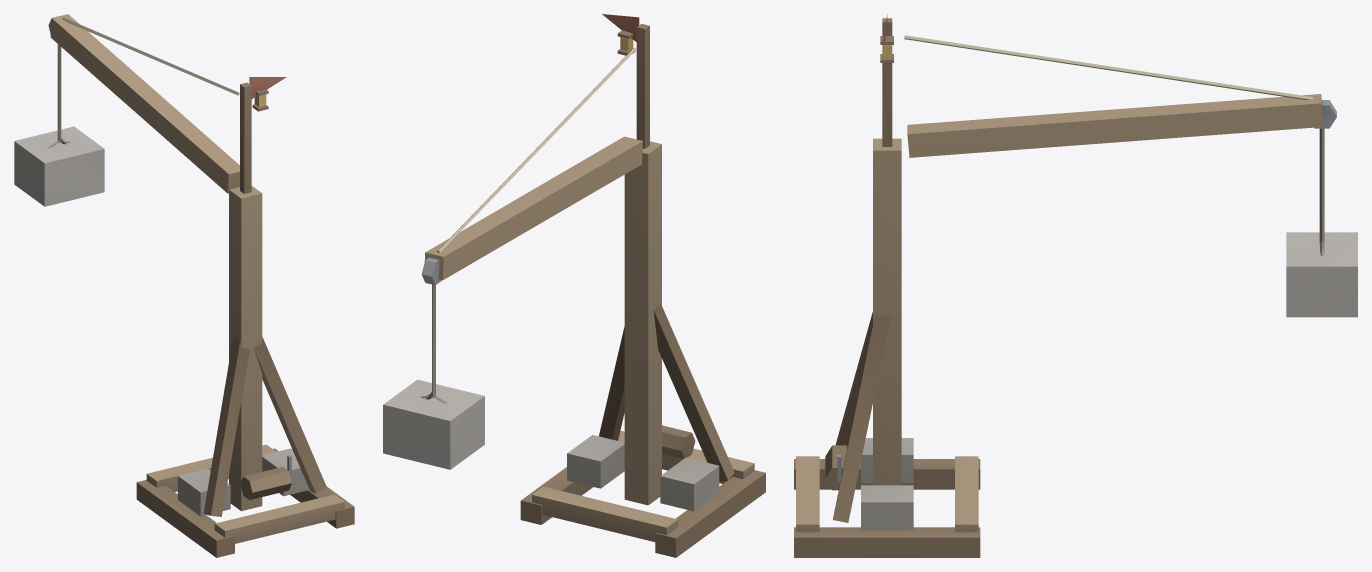
Rendered from crane_big_low.glb.
3 renders of one model, left to right at view 1: azimuth 30°, elevation 25°; view 2: azimuth 150°, elevation 25°; view 3: azimuth 270°, elevation 25°, orthographic. The views are drawn at different scales.
Parts seen in each view (by area): view 1: geometry_crane_big, geometry_boom; view 2: geometry_crane_big, geometry_boom; view 3: geometry_crane_big, geometry_boom.
Boxes of the visible parts, x1=… form: geometry_crane_big: x1=136, y1=77, x2=354, y2=557; geometry_boom: x1=14, y1=14, x2=239, y2=206; geometry_crane_big: x1=520, y1=14, x2=765, y2=557; geometry_boom: x1=383, y1=47, x2=642, y2=469; geometry_crane_big: x1=794, y1=15, x2=980, y2=557; geometry_boom: x1=904, y1=35, x2=1357, y2=317.
Size of the model in its own units: 3 by 9 by 9.08.
